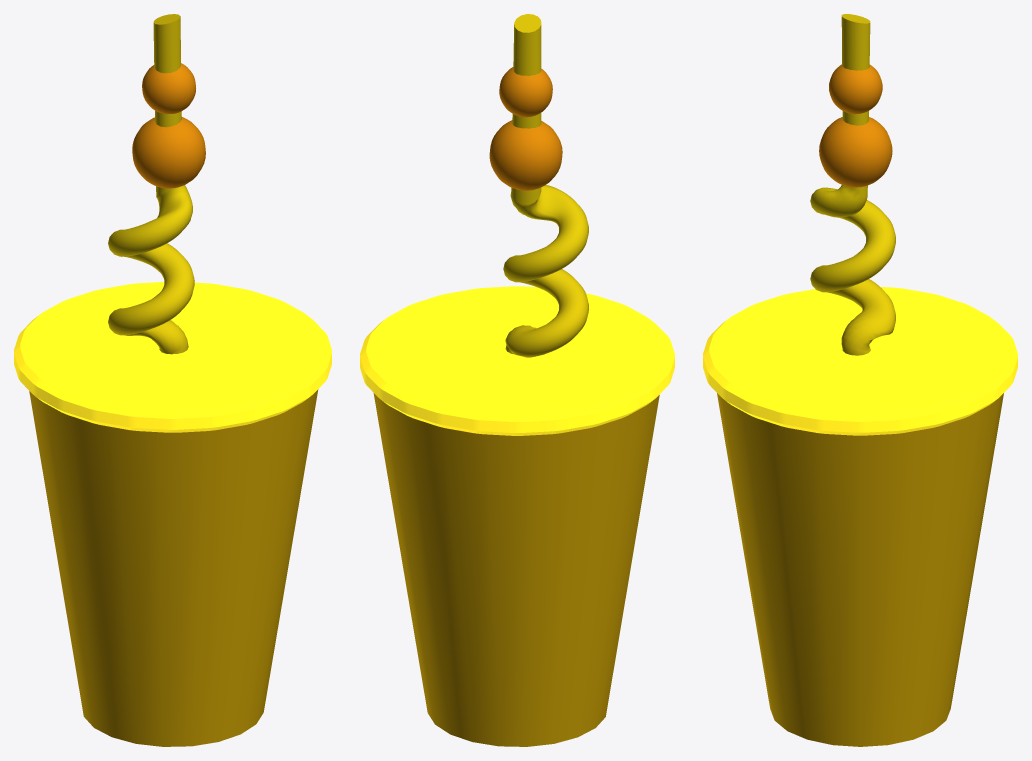
File: prize4.fbx
The picture shows the model from 3 angles, left to right: view 1: azimuth 30°, elevation 25°; view 2: azimuth 150°, elevation 25°; view 3: azimuth 270°, elevation 25°; orthographic projection.
Parts seen in each view (by area): view 1: pasted__pasted__pCylinder1, pasted__pasted__pCylinder2, pasted__pHelix1, pasted__pSphere3, pasted__pSphere1; view 2: pasted__pasted__pCylinder1, pasted__pasted__pCylinder2, pasted__pHelix1, pasted__pSphere3, pasted__pSphere1; view 3: pasted__pasted__pCylinder1, pasted__pasted__pCylinder2, pasted__pHelix1, pasted__pSphere3, pasted__pSphere1.
Part boxes in pixels (x1,y1,x2,y2): pasted__pasted__pCylinder1: (29,389,318,746); pasted__pasted__pCylinder2: (14,282,331,432); pasted__pHelix1: (108,14,194,354); pasted__pSphere3: (132,117,205,188); pasted__pSphere1: (142,63,195,113); pasted__pasted__pCylinder1: (373,393,659,746); pasted__pasted__pCylinder2: (360,286,674,435); pasted__pHelix1: (503,14,588,357); pasted__pSphere3: (489,120,562,190); pasted__pSphere1: (499,67,552,117); pasted__pasted__pCylinder1: (717,393,1003,746); pasted__pasted__pCylinder2: (703,287,1017,435); pasted__pHelix1: (810,14,895,355); pasted__pSphere3: (819,117,892,187); pasted__pSphere1: (829,64,882,114).
Size of the model in its own units: 7.78 by 18.81 by 7.78.
